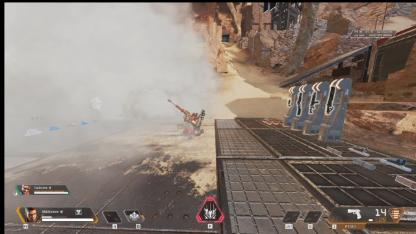Target: (182, 108, 204, 140)
